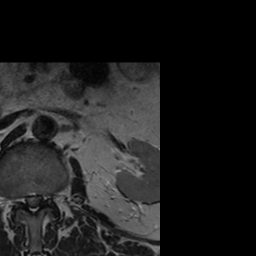CCS_stenosis: (30, 183, 36, 220)
LFS_severe_stenosis: (43, 183, 51, 206)
LLS_severe_stenosis: (36, 187, 43, 214)
RFS_severe_stenosis: (15, 186, 23, 213)
RLS_stenosis: (23, 186, 30, 214)
